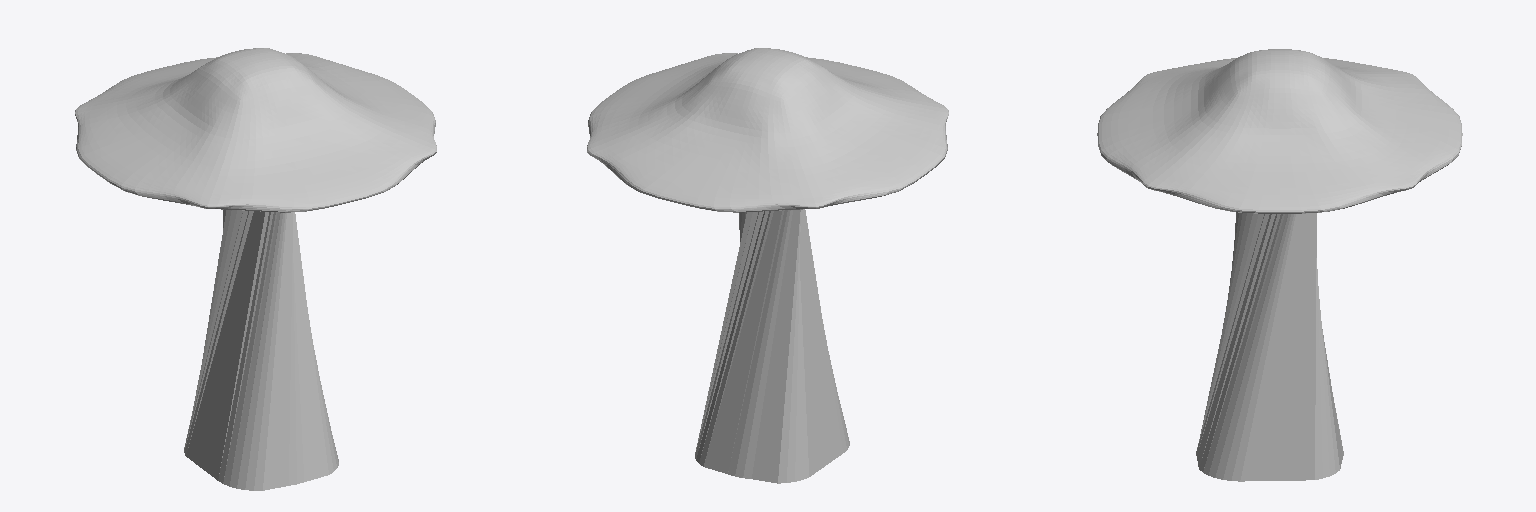
Rendered from mushroom.obj.
The picture shows the model from 3 angles: view 1: azimuth 30°, elevation 25°; view 2: azimuth 150°, elevation 25°; view 3: azimuth 270°, elevation 25°; orthographic projection.
Visible parts, largest first — view 1: Cube, Cylinder; view 2: Cube, Cylinder; view 3: Cube, Cylinder.
Part boxes in pixels (left/top/right/bottom): Cube: left=75, top=48, right=436, bottom=212; Cylinder: left=184, top=210, right=338, bottom=490; Cube: left=587, top=48, right=948, bottom=212; Cylinder: left=695, top=209, right=849, bottom=483; Cube: left=1097, top=49, right=1462, bottom=213; Cylinder: left=1196, top=212, right=1343, bottom=481.
Bounding box in the file's own units: 6.12 × 7.31 × 6.12.